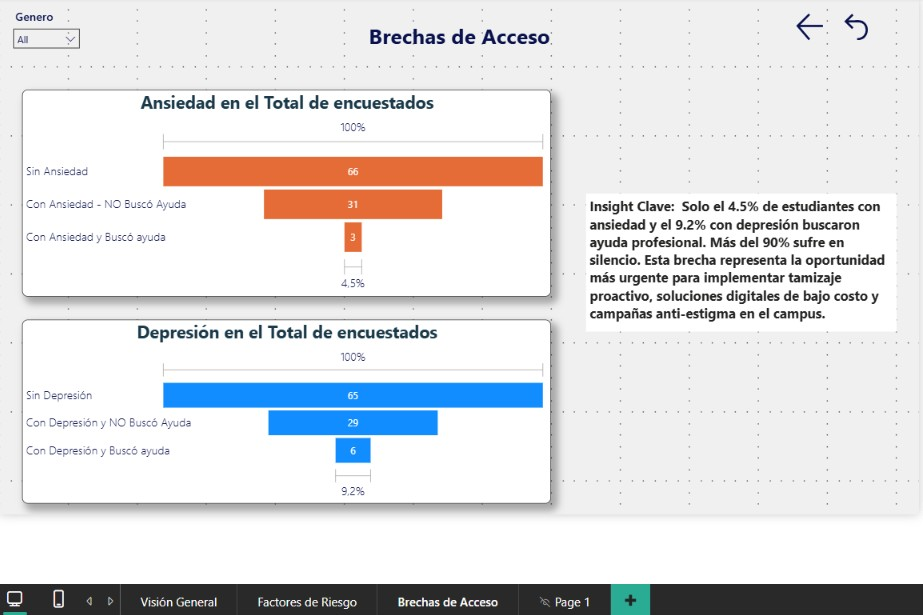

The dashboard page shown, as its layout file describes it:
{"tool":"powerbi","page":{"name":"Brechas de Acceso","canvas":[1280,720],"ordinal":2},"visuals":[{"type":"funnel","title":"Ansiedad en el Total de encuestados","fields":{"Y":["Datos Limpios.Total encuestados"],"Category":["Datos Limpios.Ansiedad Formateada"]},"box":[32,128,736,288],"z":0},{"type":"funnel","title":"Depresión en el Total de encuestados","fields":{"Y":["Datos Limpios.Total encuestados"],"Category":["Datos Limpios.Depresión Formateada"]},"box":[32,448,736,256],"z":1000},{"type":"textbox","box":[816,272,432,192],"z":2000},{"type":"textbox","title":"Brechas de Acceso","box":[496,32,288,48],"z":3000},{"type":"actionButton","box":[1168,16,48,48],"z":4000},{"type":"slicer","fields":{"Values":["Datos Limpios.Genero"]},"box":[10,10,112,64],"z":5000},{"type":"actionButton","box":[1104,16,48,48],"z":6000}]}

Visuals, with their boxes on the page's 1280x720 design canvas (x1, y1, x2, y2). These are canvas units, not pixel positions in the 923x615 screenshot, which may show the page scaled, cropped or inside an application window:
"Ansiedad en el Total de encuestados" funnel: bbox=[32, 128, 768, 416]
"Depresión en el Total de encuestados" funnel: bbox=[32, 448, 768, 704]
textbox: bbox=[816, 272, 1248, 464]
"Brechas de Acceso" textbox: bbox=[496, 32, 784, 80]
actionButton: bbox=[1168, 16, 1216, 64]
slicer - Datos Limpios.Genero: bbox=[10, 10, 122, 74]
actionButton: bbox=[1104, 16, 1152, 64]
